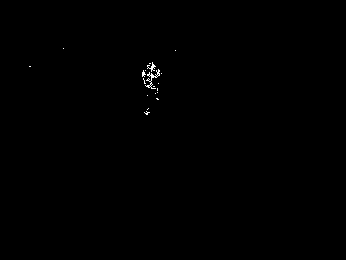person: (142, 61, 164, 118)
